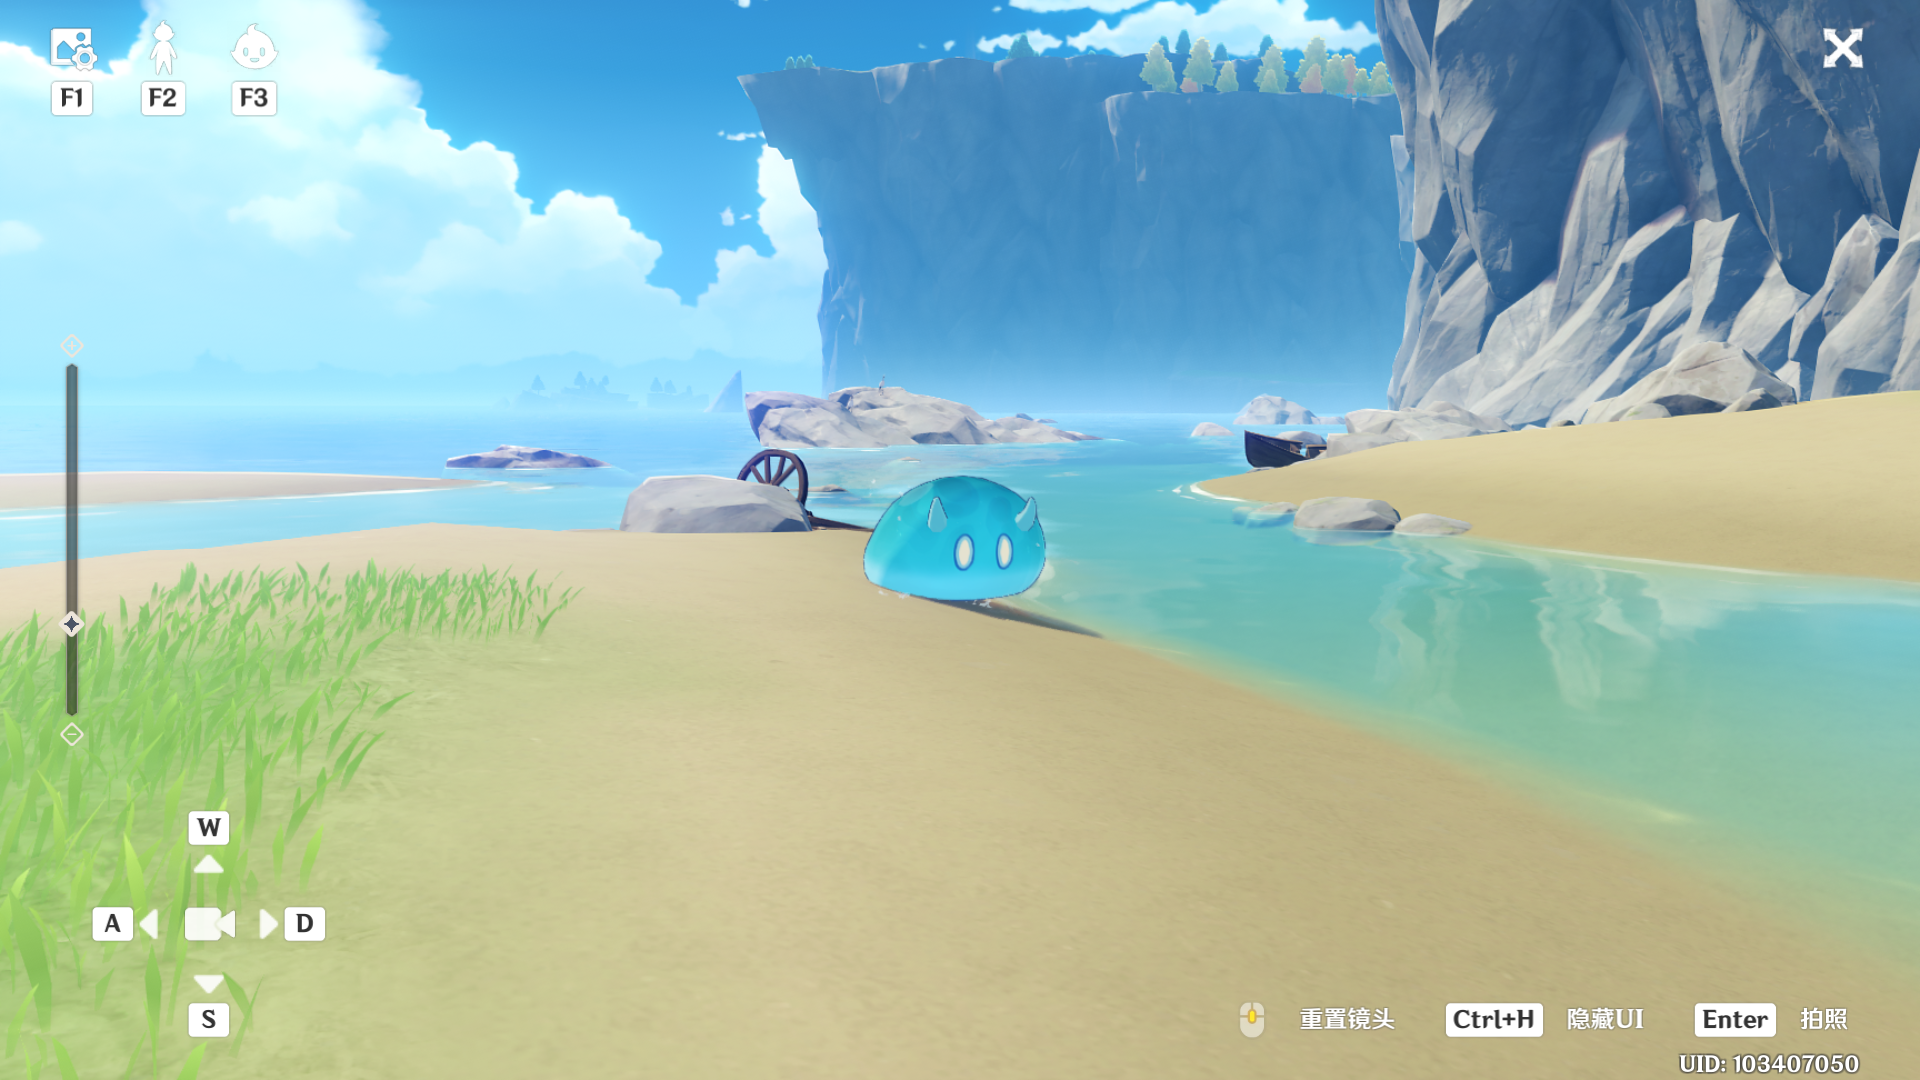slime: (856, 464, 1065, 615)
